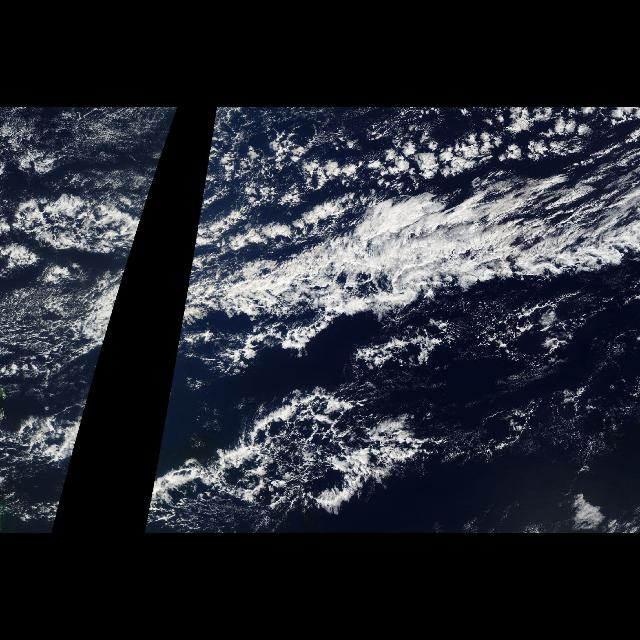Fish: (172, 170, 640, 376), (144, 380, 470, 530), (1, 170, 157, 376)
